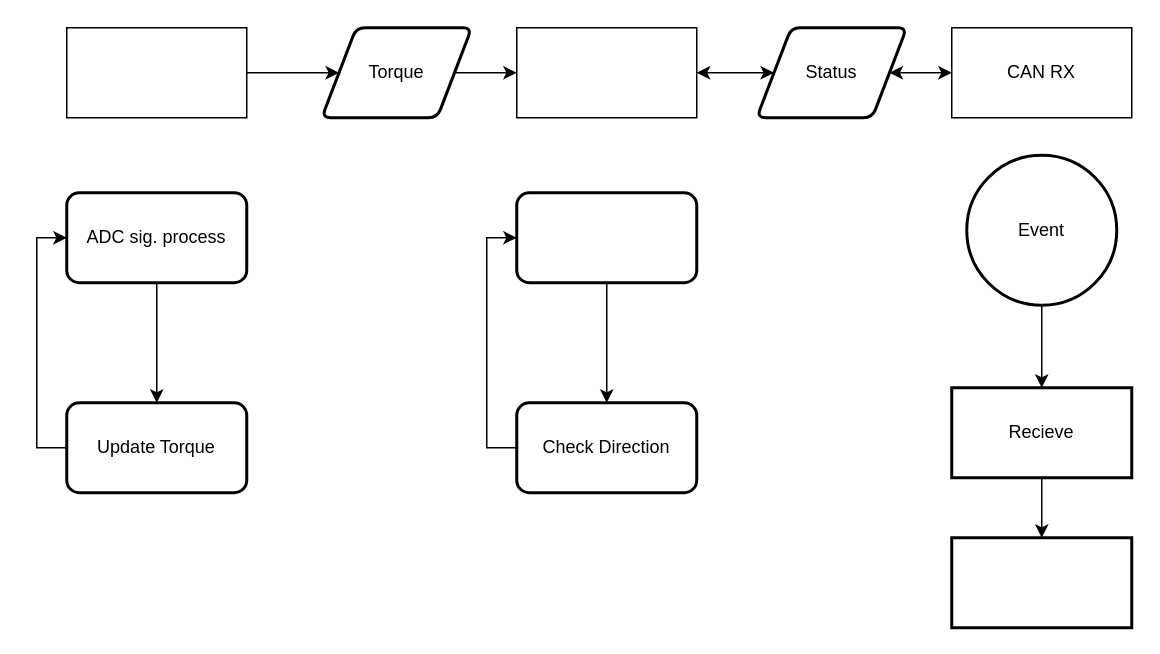
The diagram is 1160 pixels wide and 654 high, and some of its shapes have lost their labels. The shapes that lost their labels are listed below. From the top down, each one's centre as x and y in pixels, then its label:
At point 156,72: "APPE".
At point 606,72: "MCU".
At point 606,237: "Send Torque".
At point 1041,582: "ID handler".
